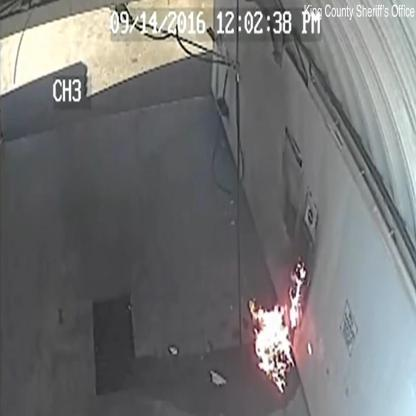fire: (248, 262, 306, 394)
